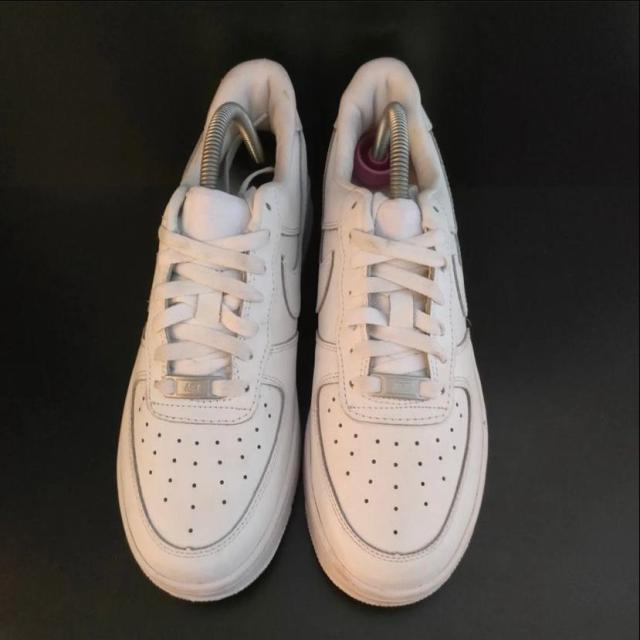nike fake air force: (303, 59, 492, 612), (115, 59, 306, 598)
